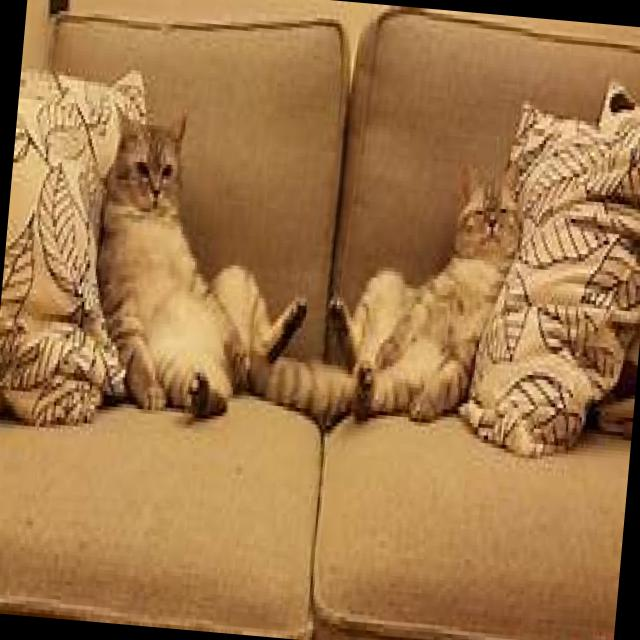animal: (84, 102, 323, 432), (321, 148, 526, 430)
